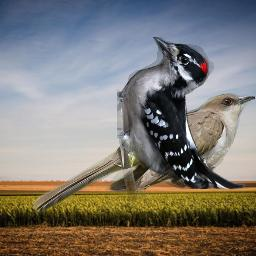Cuckoo: (31, 92, 255, 212)
Woodpecker: (117, 37, 245, 189)
